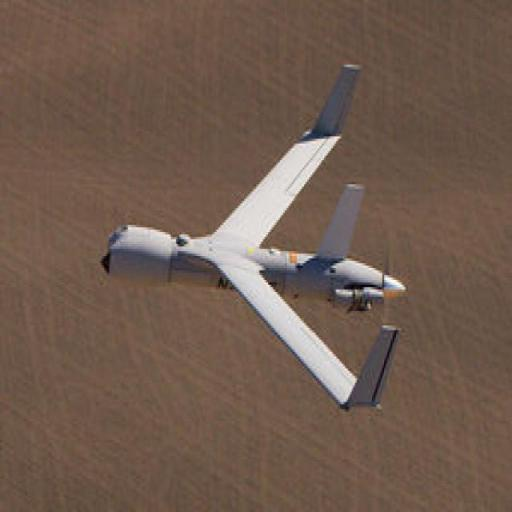uav: (87, 60, 437, 414)
